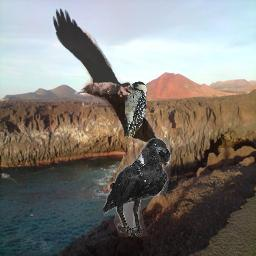Crow: (50, 6, 162, 149), (103, 138, 171, 237)
Woodpecker: (124, 81, 147, 138)
